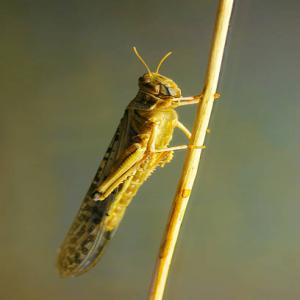locust: (39, 34, 237, 280)
